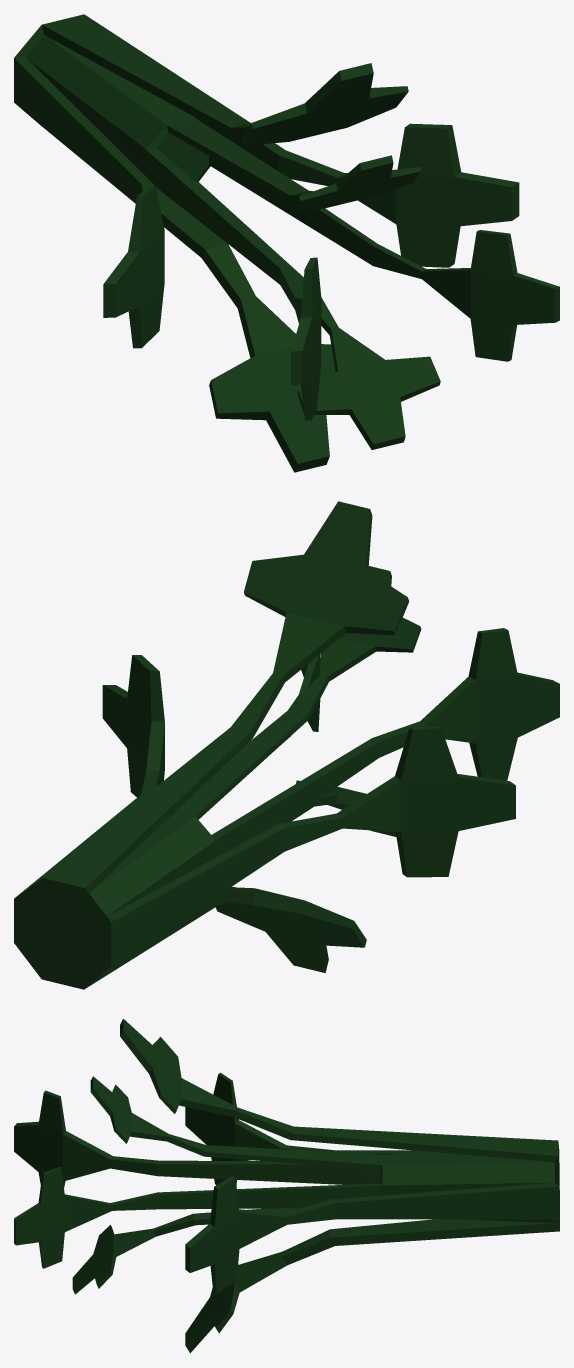
File: FreshCilantro.obj
3 views of the same model, one above another, from view 1: azimuth 30°, elevation 25°; view 2: azimuth 150°, elevation 25°; view 3: azimuth 270°, elevation 25° (orthographic). The views are drawn at different scales.
Parts seen in each view (by area): view 1: leek.002; view 2: leek.002; view 3: leek.002.
Boxes of the visible parts, bbox=[...] form: leek.002: bbox=[14, 14, 559, 472]; leek.002: bbox=[14, 501, 559, 989]; leek.002: bbox=[14, 1019, 559, 1353].
Size of the model in its own units: 0.1432 by 0.1429 by 0.2188.
